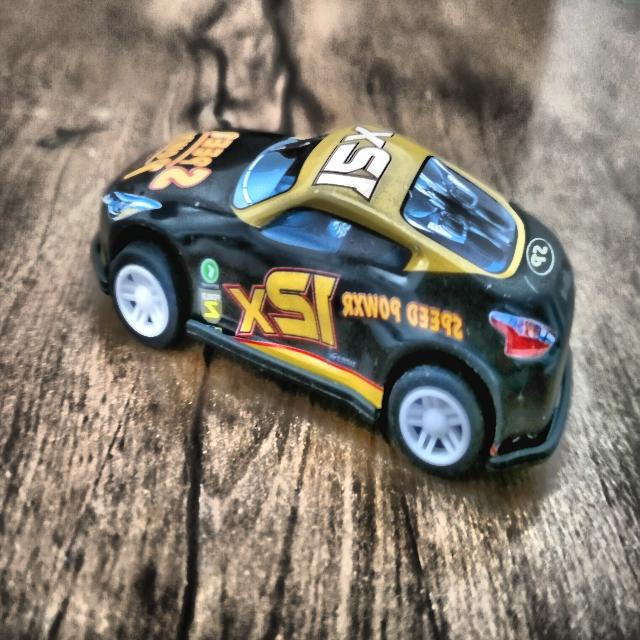Car: (93, 117, 595, 479)
